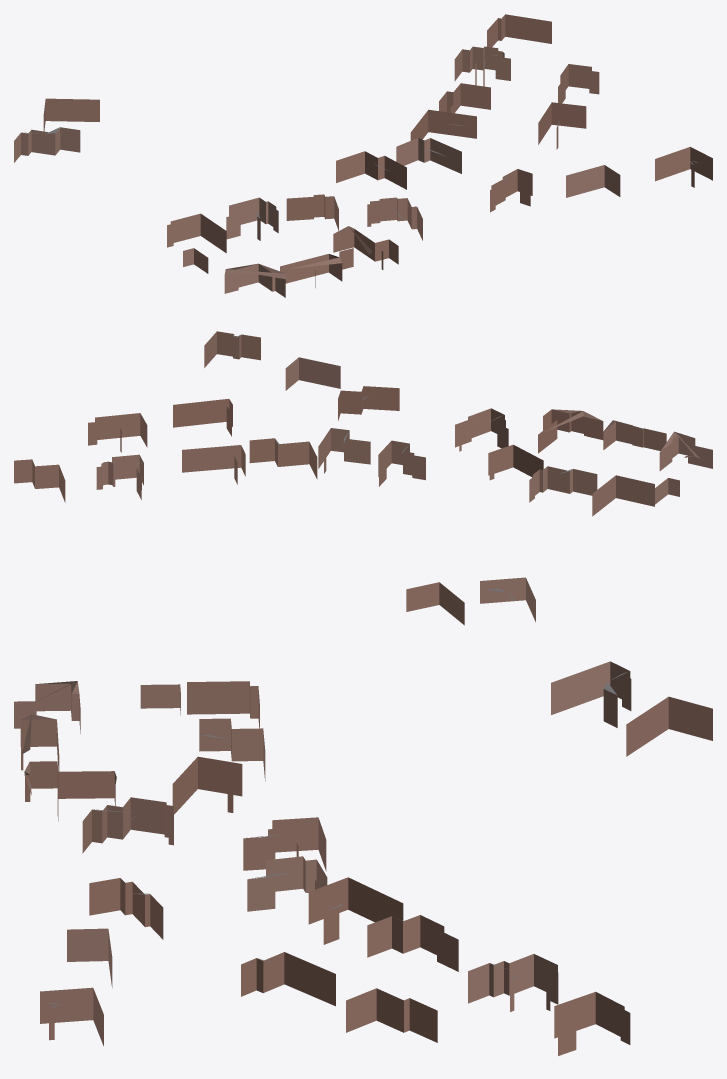
File: c_1646_17822_buildings_residential.glb
3 views of the same model, one above another, from view 1: azimuth 30°, elevation 25°; view 2: azimuth 150°, elevation 25°; view 3: azimuth 270°, elevation 25° (orthographic). The views are drawn at different scales.
Parts seen in each view (by area): view 1: geometry_0; view 2: geometry_0; view 3: geometry_0.
Part boxes in pixels (left/top/right/bottom): geometry_0: left=14, top=14, right=712, bottom=297; geometry_0: left=14, top=331, right=712, bottom=625; geometry_0: left=14, top=661, right=712, bottom=1055.
Bounding box in the file's own units: 270 × 11.08 × 215.
